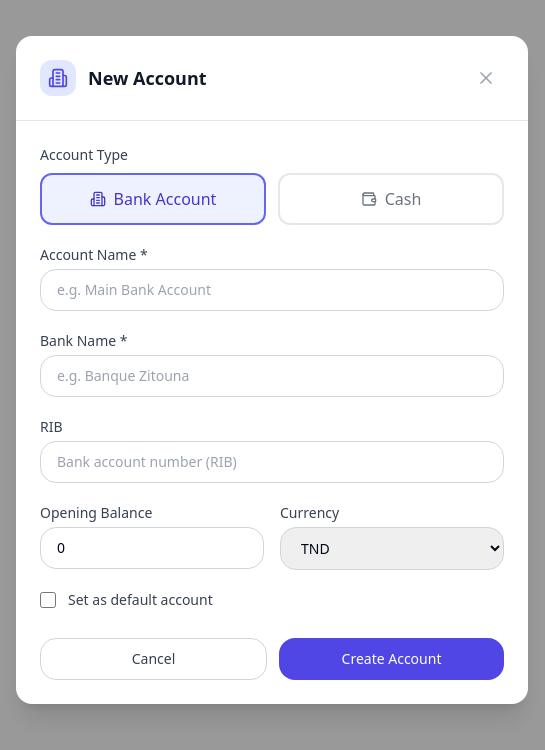
Test: AccountModal › Form Validation › should show error when account name is empty
What coordinates should you click on to do the following:
click the button "Create Account"
I would click on:
 (392, 659)
Its box is [279,638,504,680].
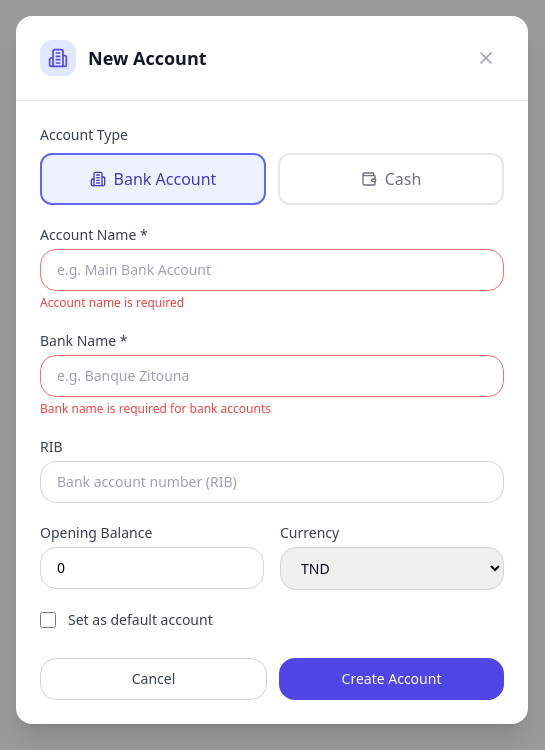
Expected: the text "Account name is required" is shown, [40,294,184,311]
